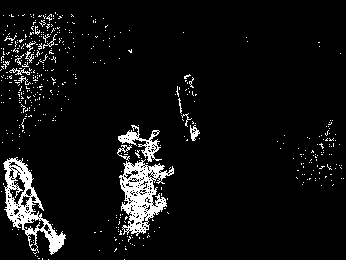person: (2, 156, 62, 256), (173, 71, 200, 143)
